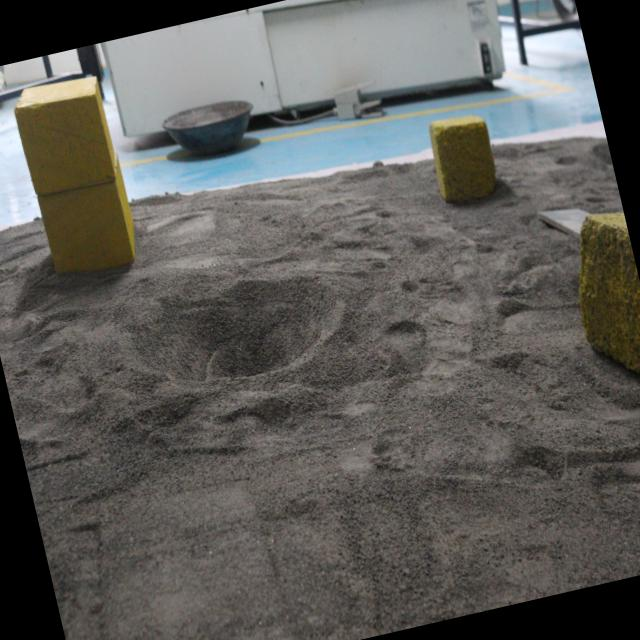box: (8, 65, 142, 289), (557, 186, 640, 403), (422, 105, 506, 211)
crater: (107, 245, 365, 420)
